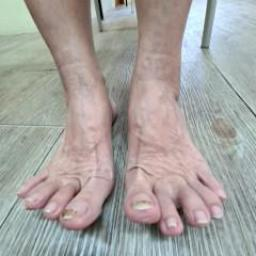Front View -Both Feet-: (6, 44, 250, 245)
